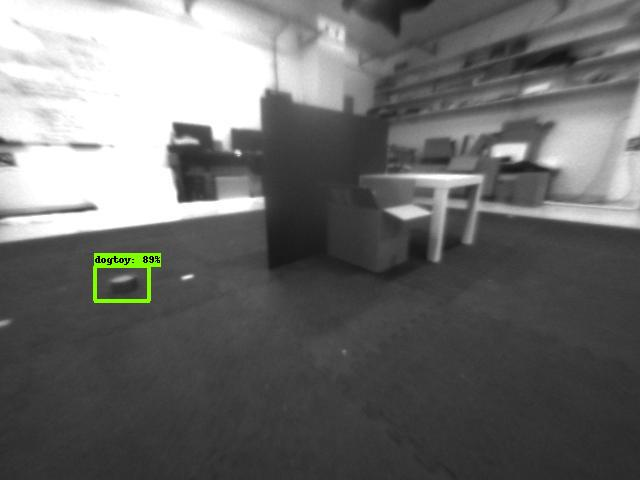dogtoy: (96, 268, 147, 301)
